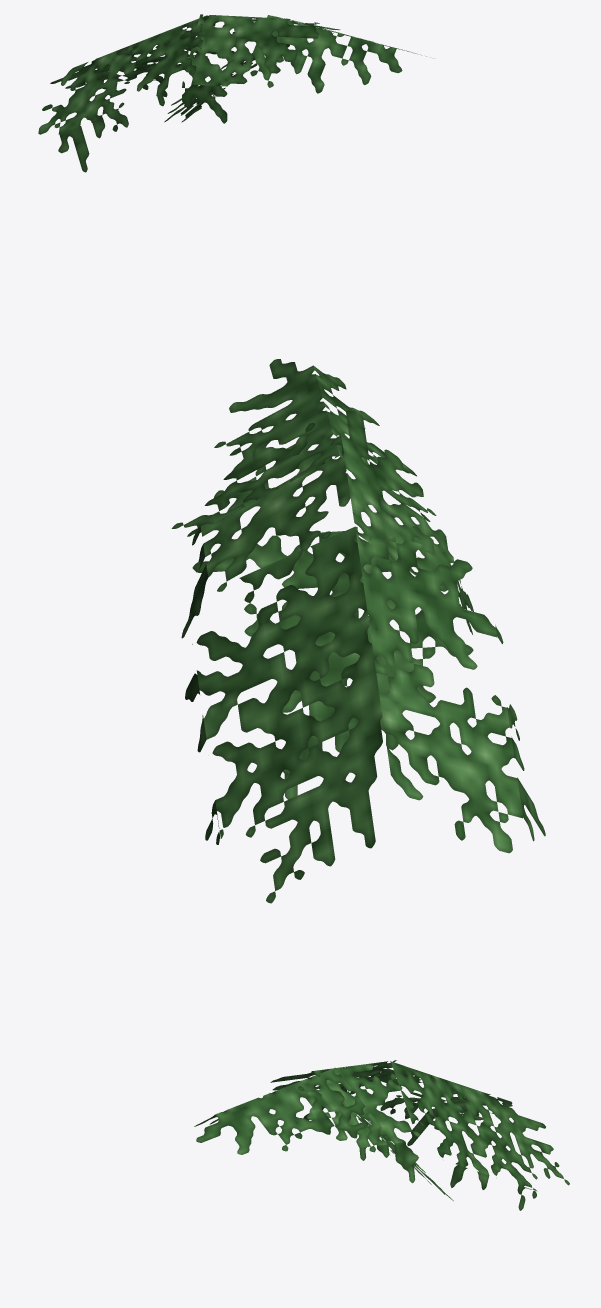
The model's file is spruce_leaves_slab_diagonal_2.obj.
The picture shows the model from 3 angles, top to bottom: view 1: azimuth 30°, elevation 25°; view 2: azimuth 150°, elevation 25°; view 3: azimuth 270°, elevation 25°; orthographic projection. The views are drawn at different scales.
Parts seen in each view (by area): view 1: plane, cube; view 2: plane, cube; view 3: plane, cube.
Boxes of the visible parts, x1,y1,x2,y2 form: plane: [38, 14, 426, 172]; cube: [164, 53, 257, 122]; plane: [171, 359, 545, 903]; cube: [192, 526, 473, 799]; plane: [194, 1060, 569, 1210]; cube: [356, 1114, 453, 1201].
Size of the model in its own units: 2.58 by 1.34 by 2.83.
